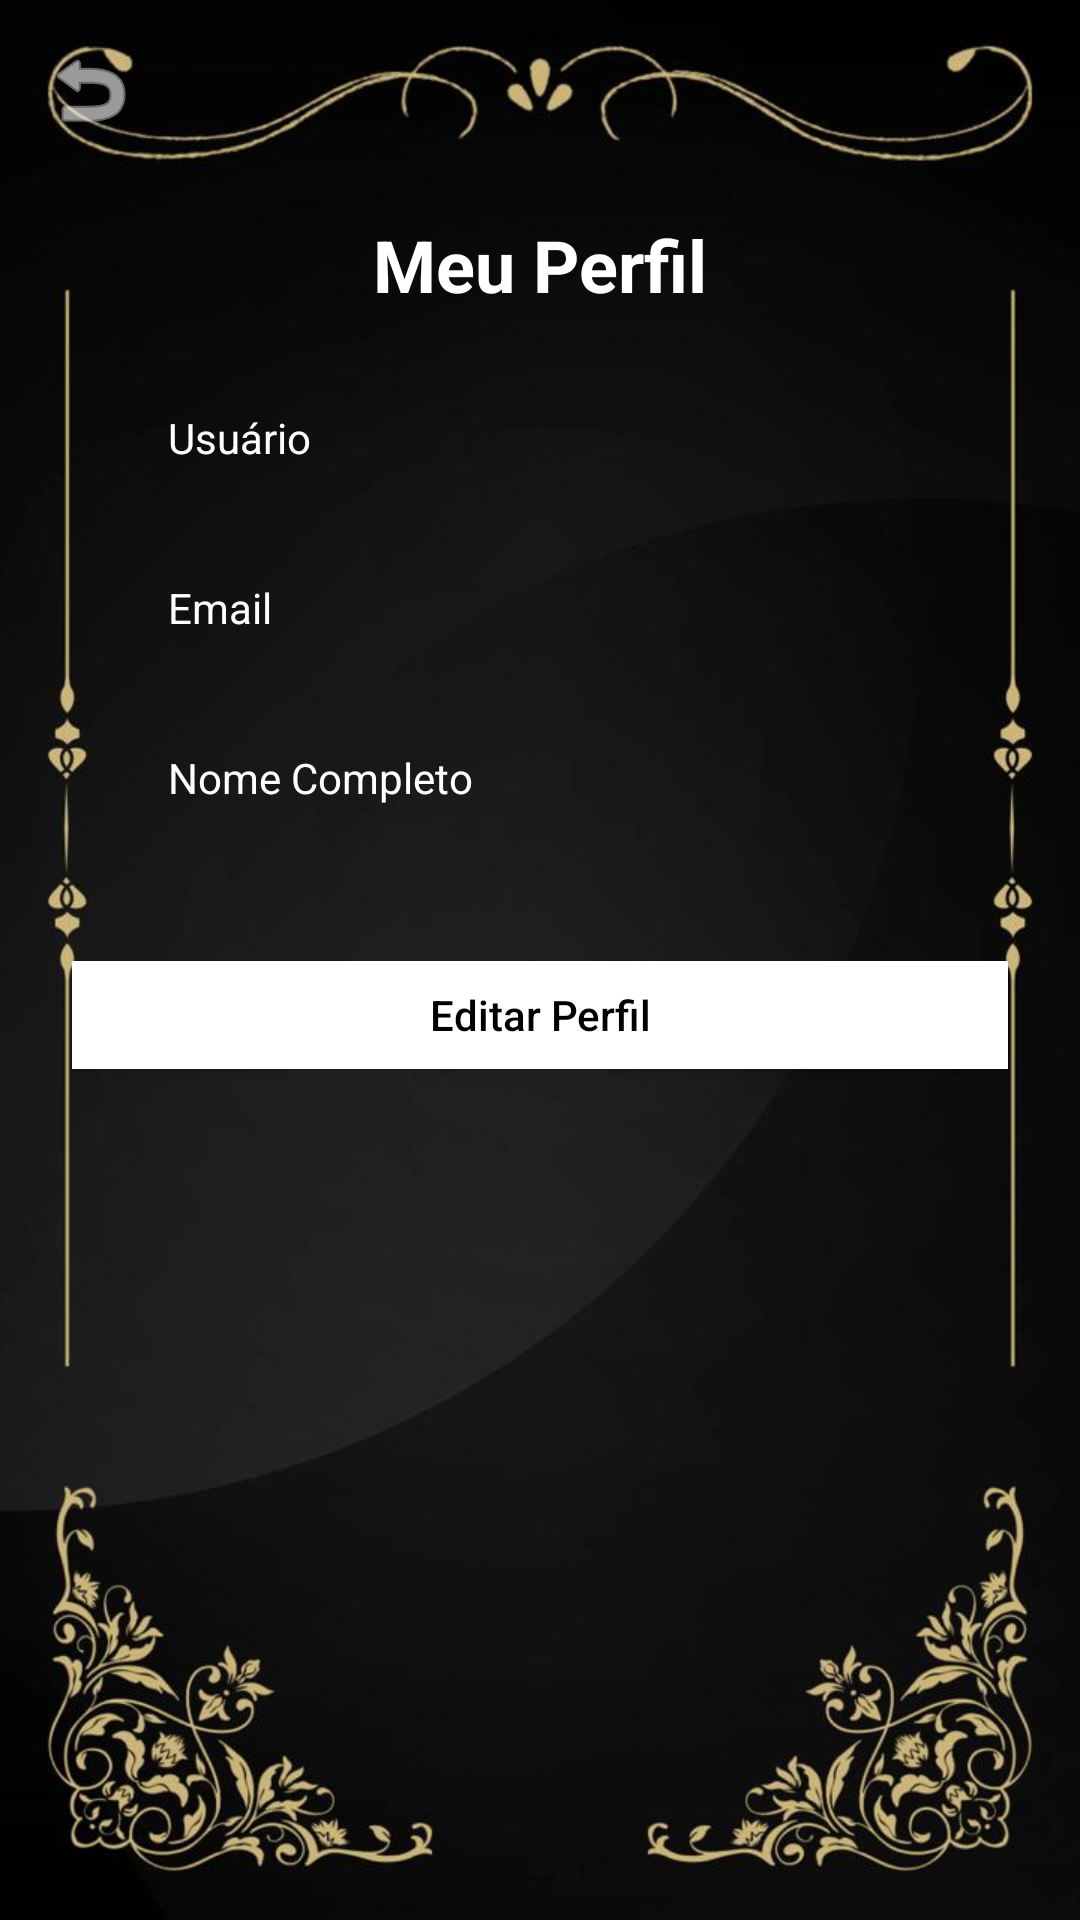

Screen size 1080w x 1920h. Icon name, then its center in pixels as point (x, y):
Voltar: point (95, 95)
